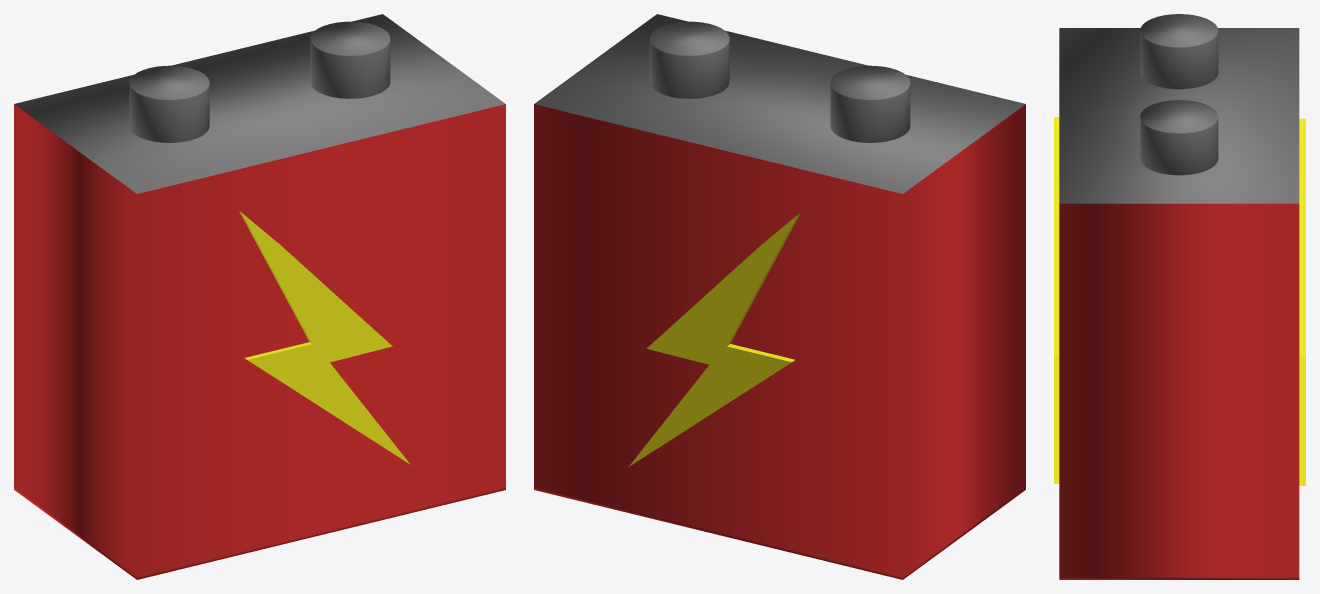
The model's file is battery.fbx.
3 views of the same model, side by side, from view 1: azimuth 30°, elevation 25°; view 2: azimuth 150°, elevation 25°; view 3: azimuth 270°, elevation 25° (orthographic). The views are drawn at different scales.
Parts seen in each view (by area): view 1: Cube; view 2: Cube; view 3: Cube.
Boxes of the visible parts, box(x1,y1,x2,y2) form: Cube: box(14, 14, 505, 579); Cube: box(534, 14, 1025, 579); Cube: box(1054, 14, 1305, 579).
Bounding box in the file's own units: 200 × 223 × 121.
